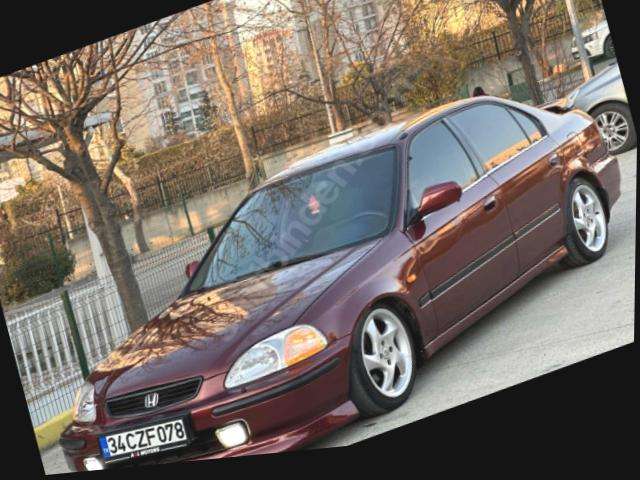plaka: (99, 417, 190, 457)
